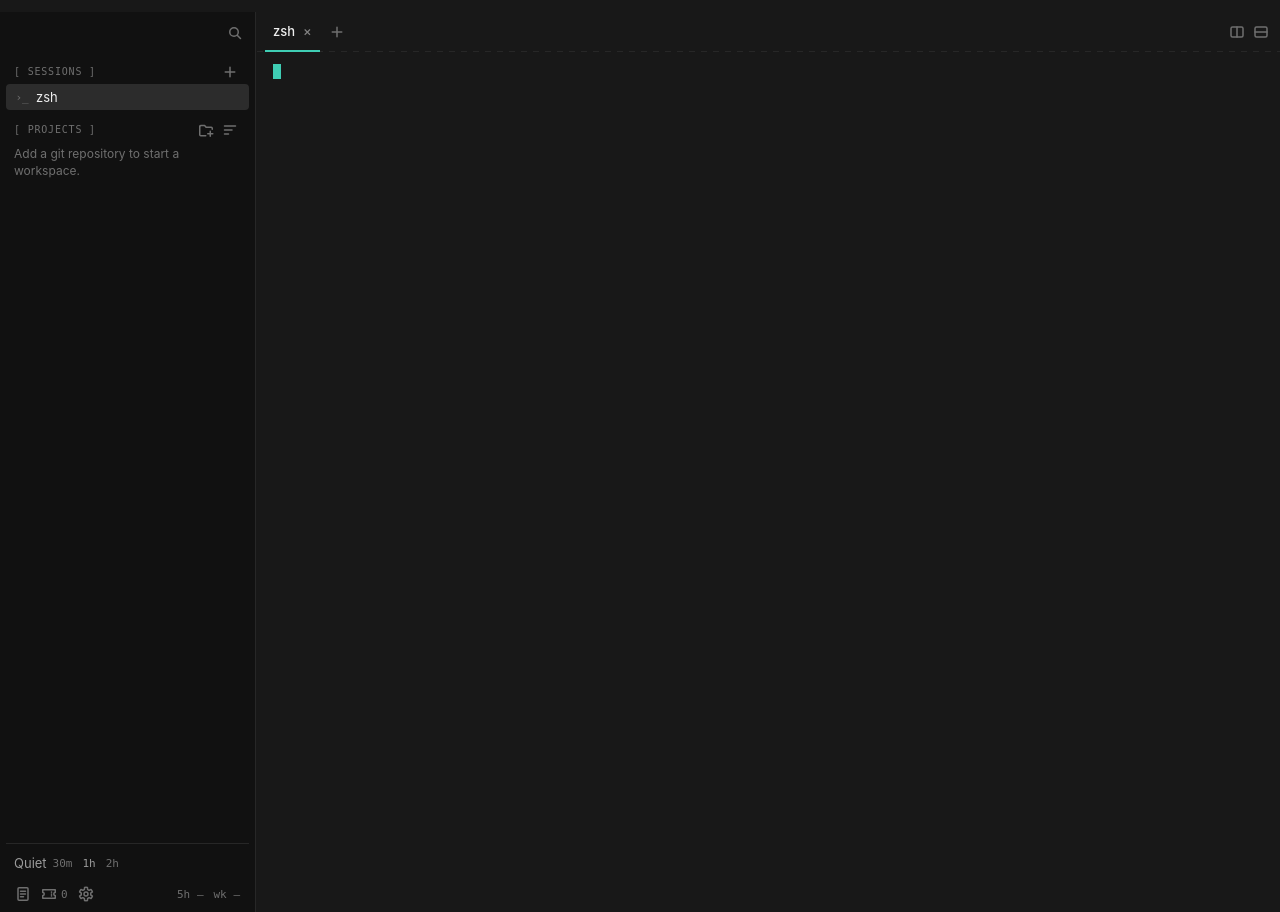
Test case: Sidebar › icon strip › opens Report and reads it as the open view
Click the button named "Report": (23, 894) [11,883,35,905]
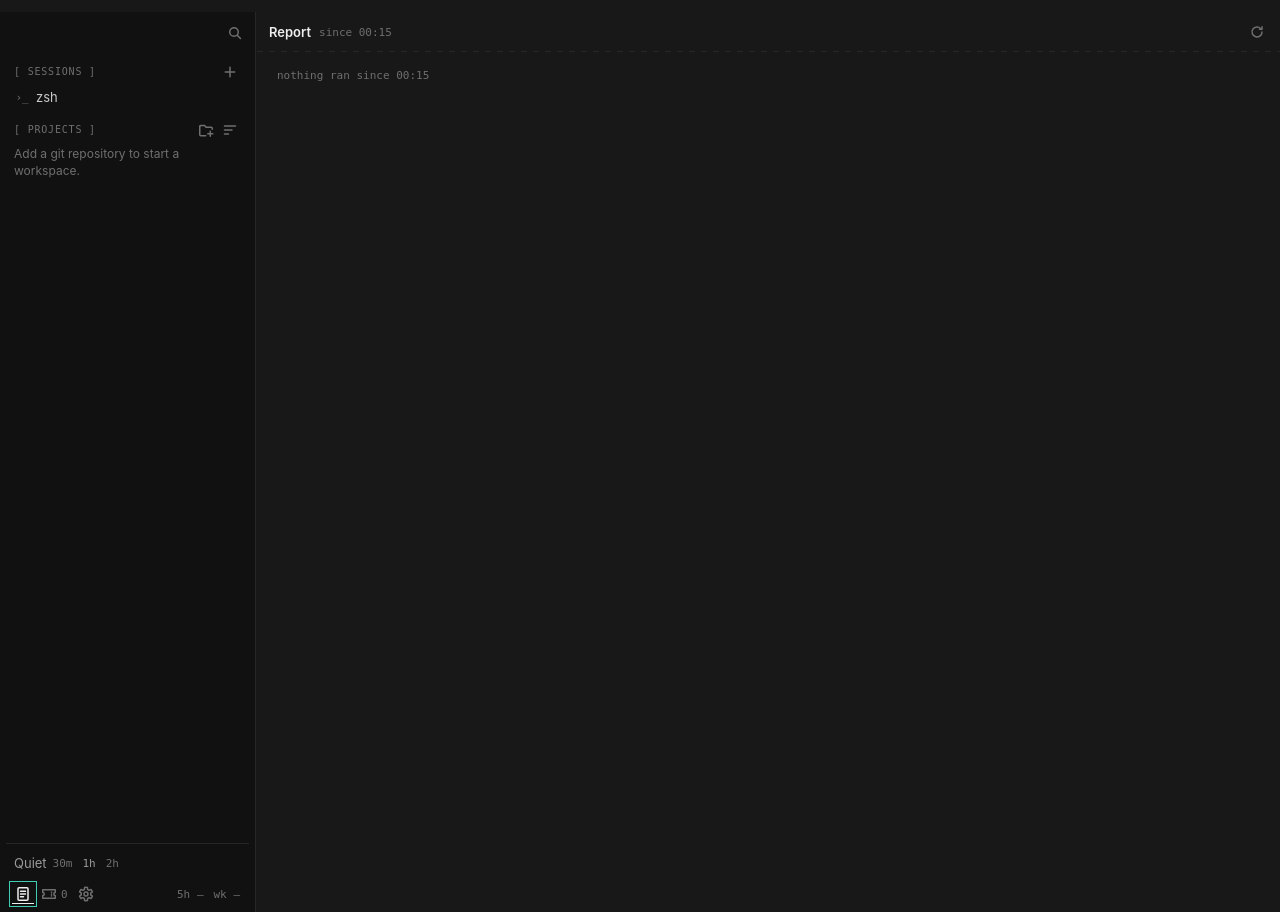
Expected: the element with test id "report-view" is shown, [269,21,1268,82]
